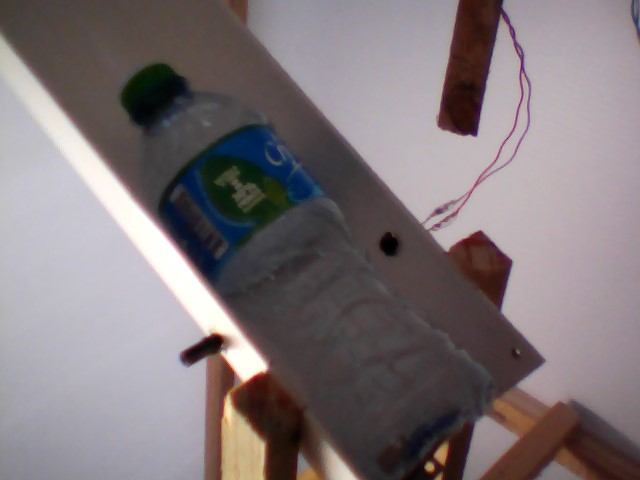plastico: (112, 59, 501, 480)
